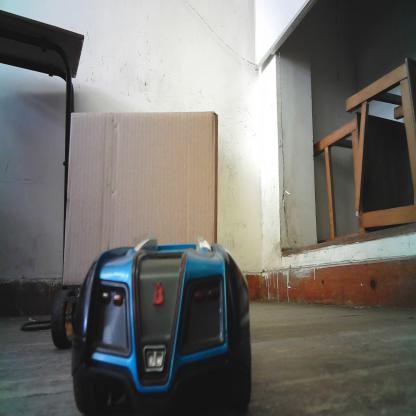LeadTruck: (60, 114, 218, 303)
